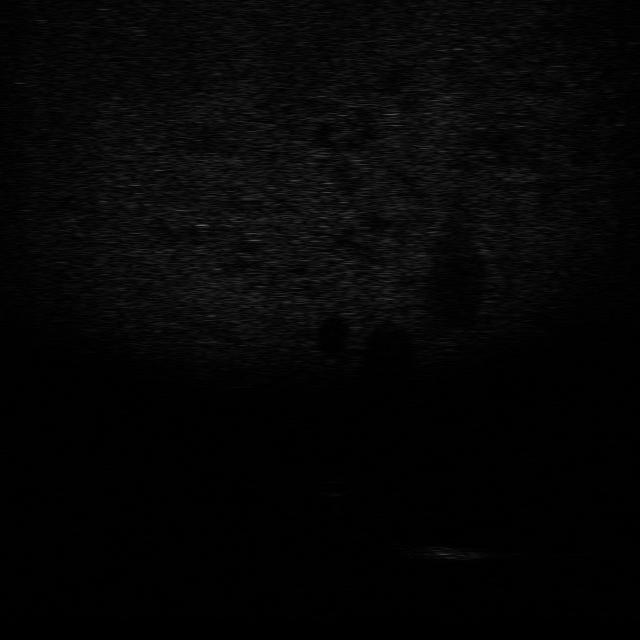ball: (311, 475, 355, 499)
metal bucket: (410, 536, 479, 564)
tyre: (370, 503, 424, 560)
